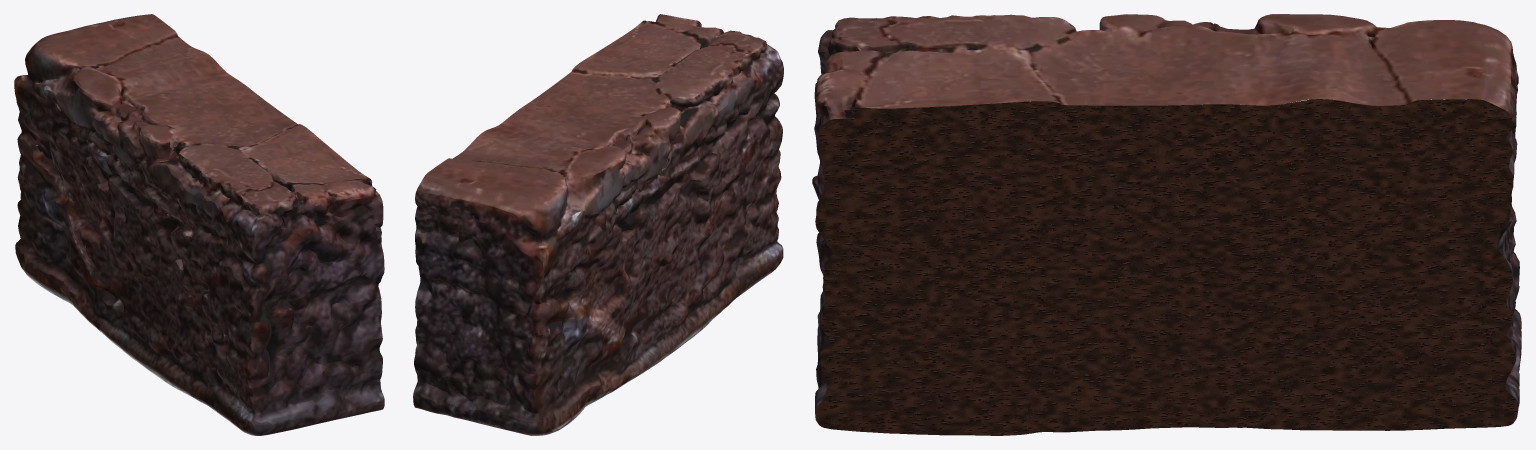
3 views of the same model, side by side, from view 1: azimuth 30°, elevation 25°; view 2: azimuth 150°, elevation 25°; view 3: azimuth 270°, elevation 25° (orthographic). The views are drawn at different scales.
Parts seen in each view (by area): view 1: brownie-physical-calibration-80x35x65mm; view 2: brownie-physical-calibration-80x35x65mm; view 3: brownie-physical-calibration-80x35x65mm.
Part boxes in pixels (left/top/right/bottom): brownie-physical-calibration-80x35x65mm: left=14, top=14, right=384, bottom=435; brownie-physical-calibration-80x35x65mm: left=413, top=14, right=783, bottom=435; brownie-physical-calibration-80x35x65mm: left=812, top=14, right=1521, bottom=435.
Size of the model in its own units: 0.02 by 0.0346 by 0.0648.
Materials: 2 (2 with a texture image).
